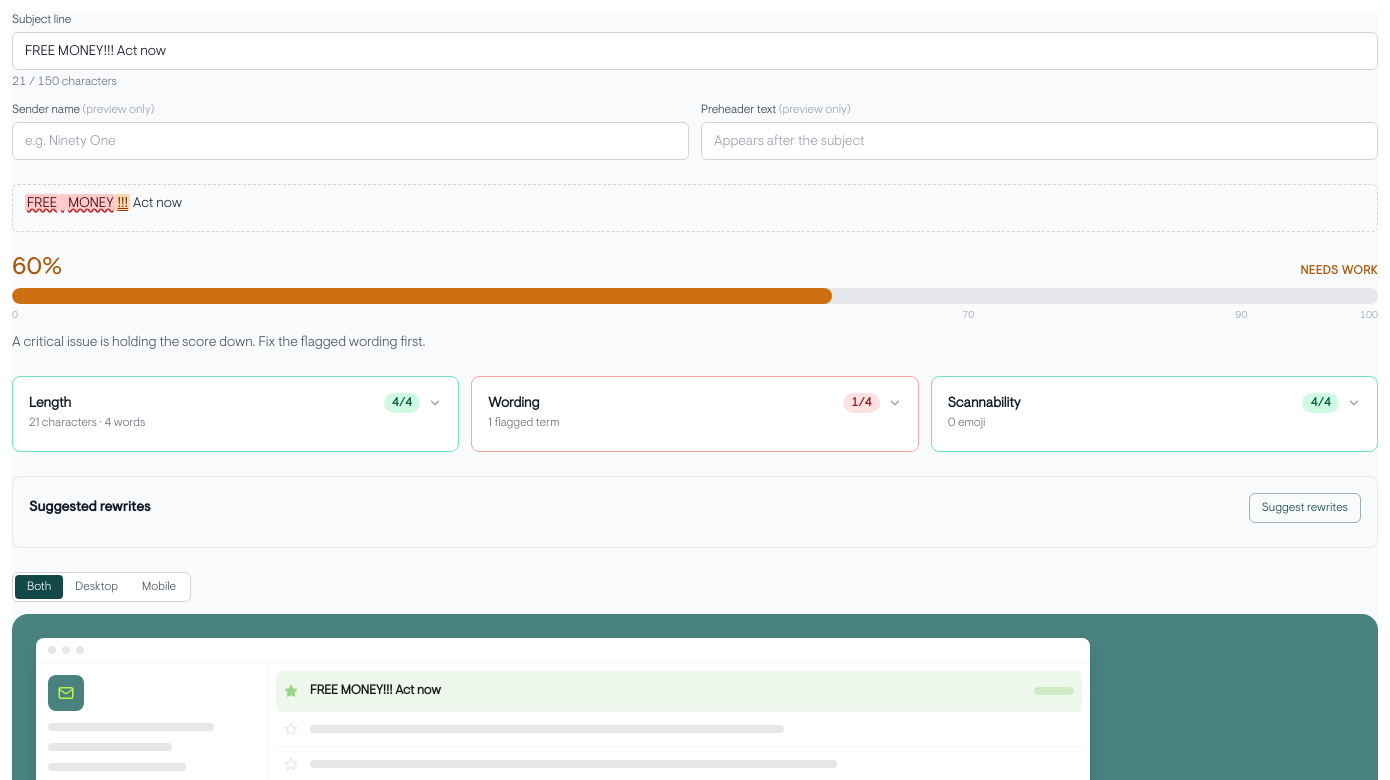
Test case: suggestions on › "Use this" puts the suggestion into the subject line
Click the button "Suggest rewrites": (1305, 508) x1=1249 y1=493 x2=1361 y2=523
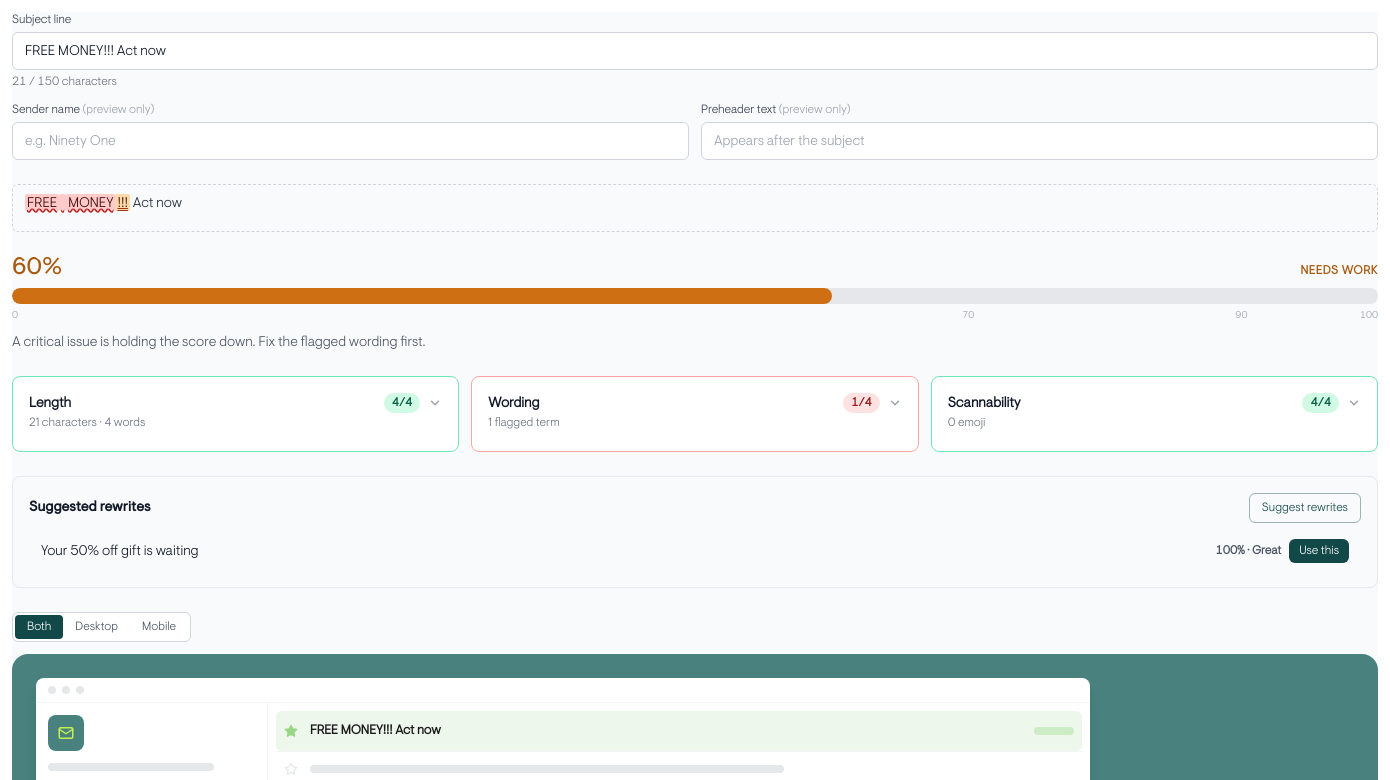
Click the button "Use this": (1319, 551) x1=1289 y1=539 x2=1349 y2=563
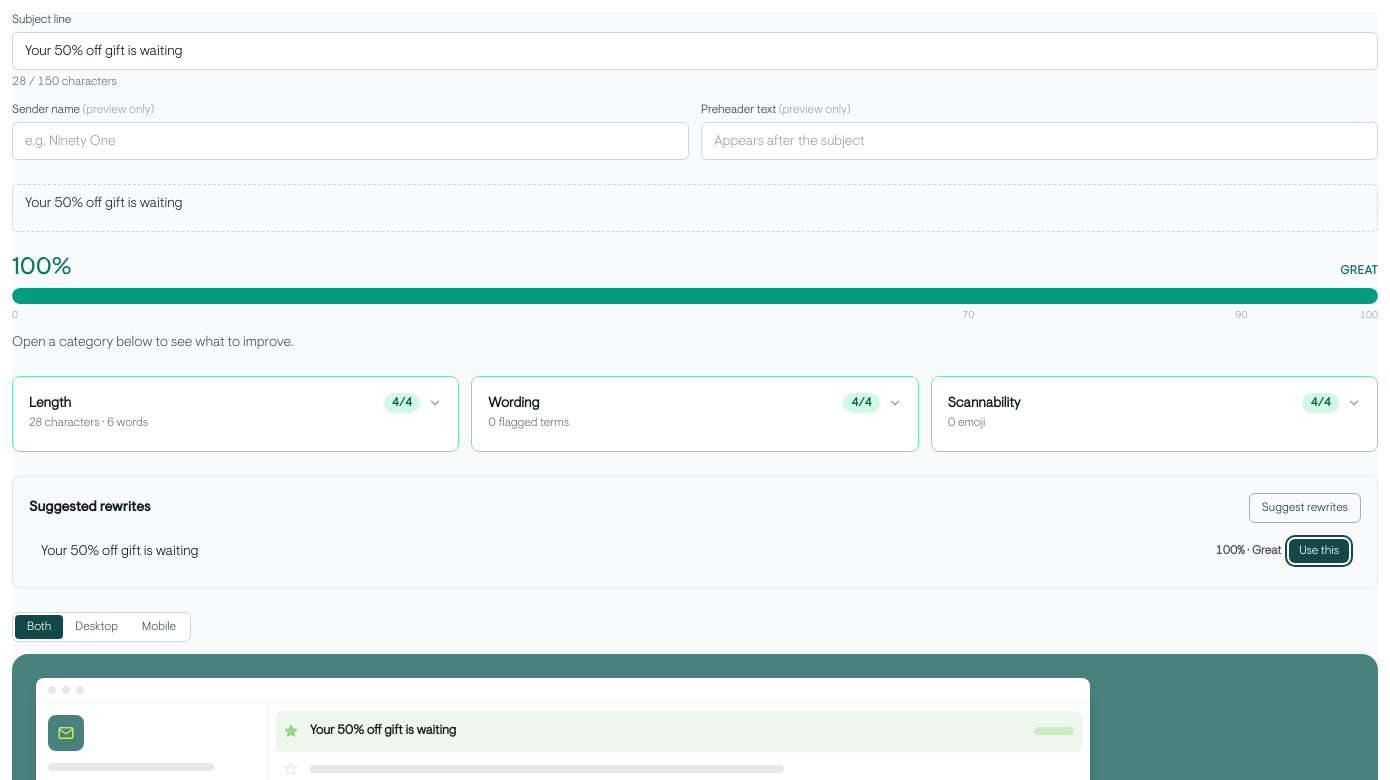
expect the field labelled "Subject line" holds "Your 50% off gift is waiting": met, box x1=12 y1=32 x2=1378 y2=70
